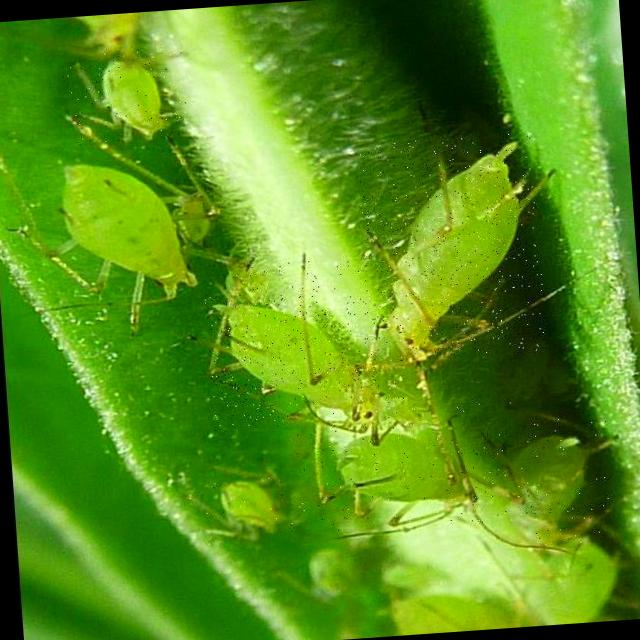aphid: (352, 132, 544, 362), (200, 255, 406, 432), (286, 395, 520, 536), (28, 144, 231, 302), (494, 412, 612, 548), (63, 47, 191, 145), (184, 468, 294, 548)
